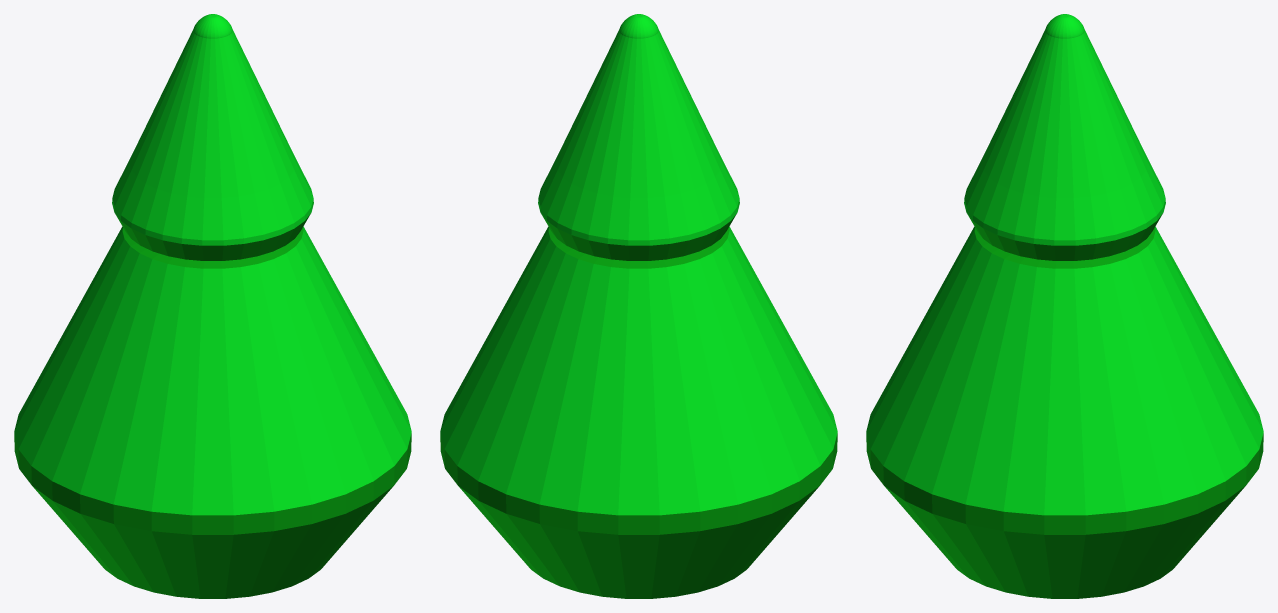
The model's file is Tree.fbx.
3 renders of one model, left to right at view 1: azimuth 30°, elevation 25°; view 2: azimuth 150°, elevation 25°; view 3: azimuth 270°, elevation 25°, orthographic.
Visible parts, largest first — view 1: Tree; view 2: Tree; view 3: Tree.
Part boxes in pixels (<box>): Tree: <box>14,14,411,598</box>; Tree: <box>440,14,837,598</box>; Tree: <box>866,14,1263,598</box>.
Bounding box in the file's own units: 3.4 × 3.42 × 5.06.
